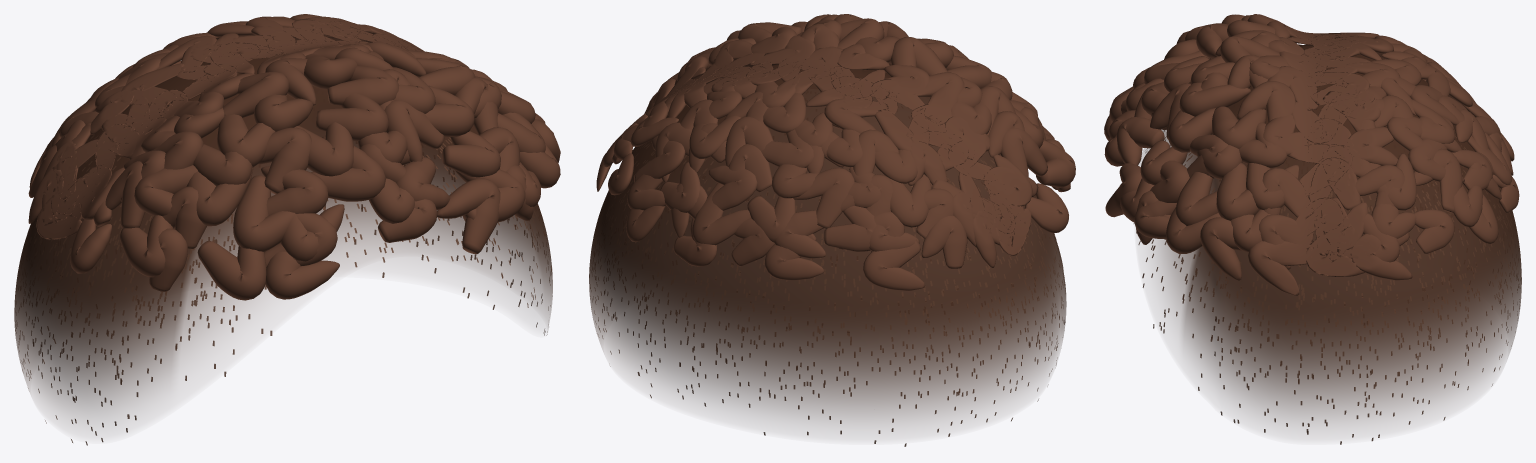
Rendered from Masculine-curly-top-tank-pashmina250-hair.glb.
3 views of the same model, side by side, from view 1: azimuth 30°, elevation 25°; view 2: azimuth 150°, elevation 25°; view 3: azimuth 270°, elevation 25° (orthographic). The views are drawn at different scales.
Parts seen in each view (by area): view 1: 226 hair / Hair / chestnut226.001, 226 hair / Hair / neutral coverage235.002, 226 hair / Hair / cut grain235.002; view 2: 226 hair / Hair / chestnut226.001, 226 hair / Hair / neutral coverage235.002, 226 hair / Hair / cut grain235.002; view 3: 226 hair / Hair / chestnut226.001, 226 hair / Hair / neutral coverage235.002, 226 hair / Hair / cut grain235.002.
Part boxes in pixels (bbox=[...]): 226 hair / Hair / chestnut226.001: bbox=[28, 14, 560, 300]; 226 hair / Hair / neutral coverage235.002: bbox=[14, 57, 552, 424]; 226 hair / Hair / cut grain235.002: bbox=[15, 130, 552, 445]; 226 hair / Hair / chestnut226.001: bbox=[596, 14, 1075, 290]; 226 hair / Hair / neutral coverage235.002: bbox=[589, 64, 1066, 428]; 226 hair / Hair / cut grain235.002: bbox=[589, 117, 1065, 446]; 226 hair / Hair / chestnut226.001: bbox=[1104, 14, 1519, 295]; 226 hair / Hair / neutral coverage235.002: bbox=[1139, 46, 1521, 428]; 226 hair / Hair / cut grain235.002: bbox=[1133, 130, 1521, 444].
Size of the model in its own units: 0.9759 by 0.6882 by 0.8292.
